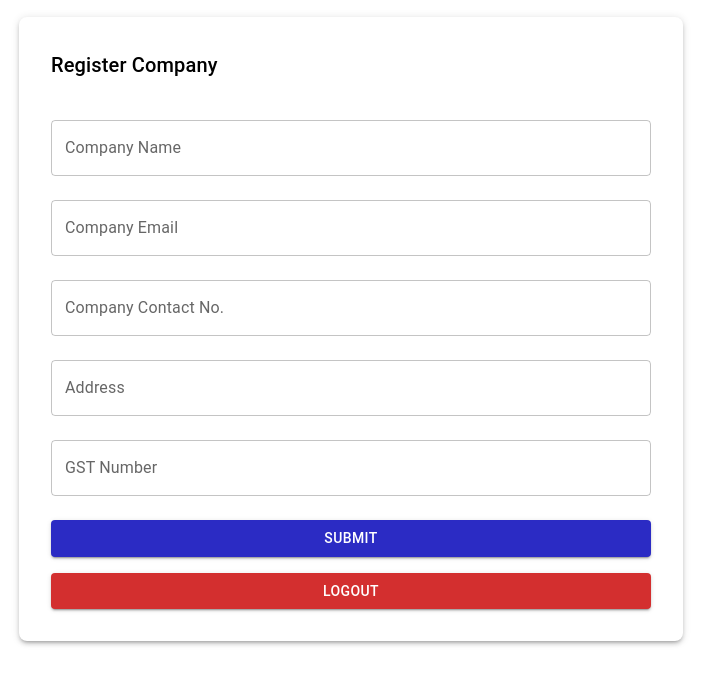
Test: CompanyRegisterPage › displays error message for invalid contact number format
Type "123" into the field labelled "Company Contact No." at (351, 308), box [51,280,651,336]
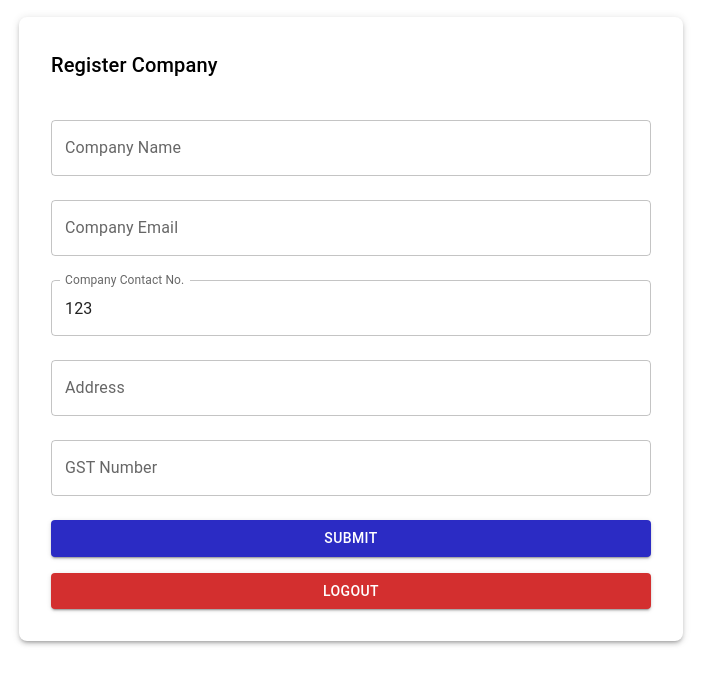
Click the button "Submit" at (351, 538), box [51,520,651,556]
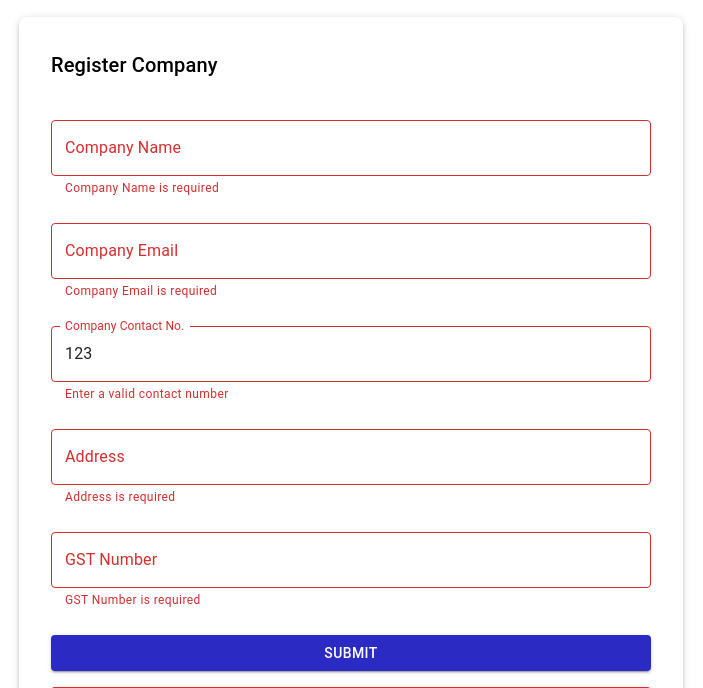
Now the text "Enter a valid contact number" is shown, box [65,387,229,401]
